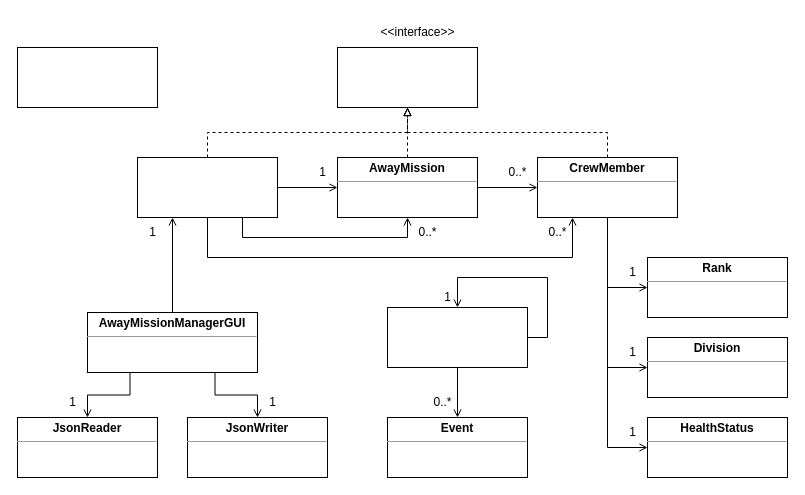
The diagram is 805 pixels wide and 495 high, and some of its shapes have lost their labels. Here are the shapes that lost their labels. From the top down, the centre of each, then its label:
[87,77]: Main
[407,77]: Writable
[207,187]: Starship
[457,337]: EventLog
